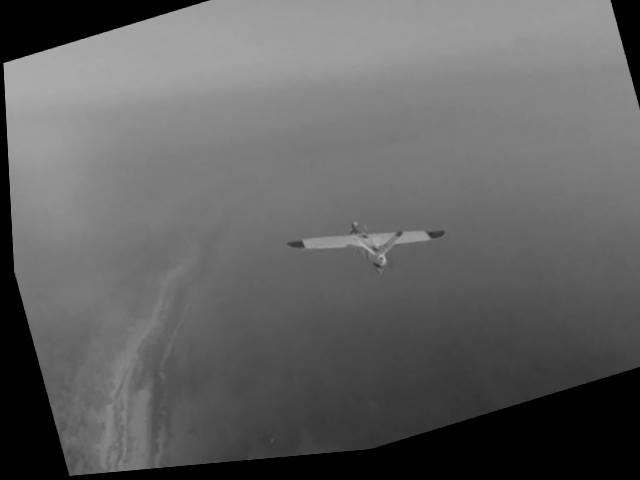hedef: (266, 181, 460, 321)
